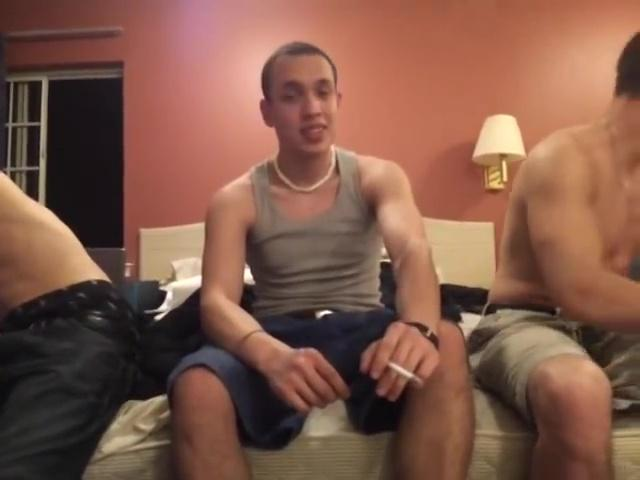cigarette: (388, 359, 426, 388)
